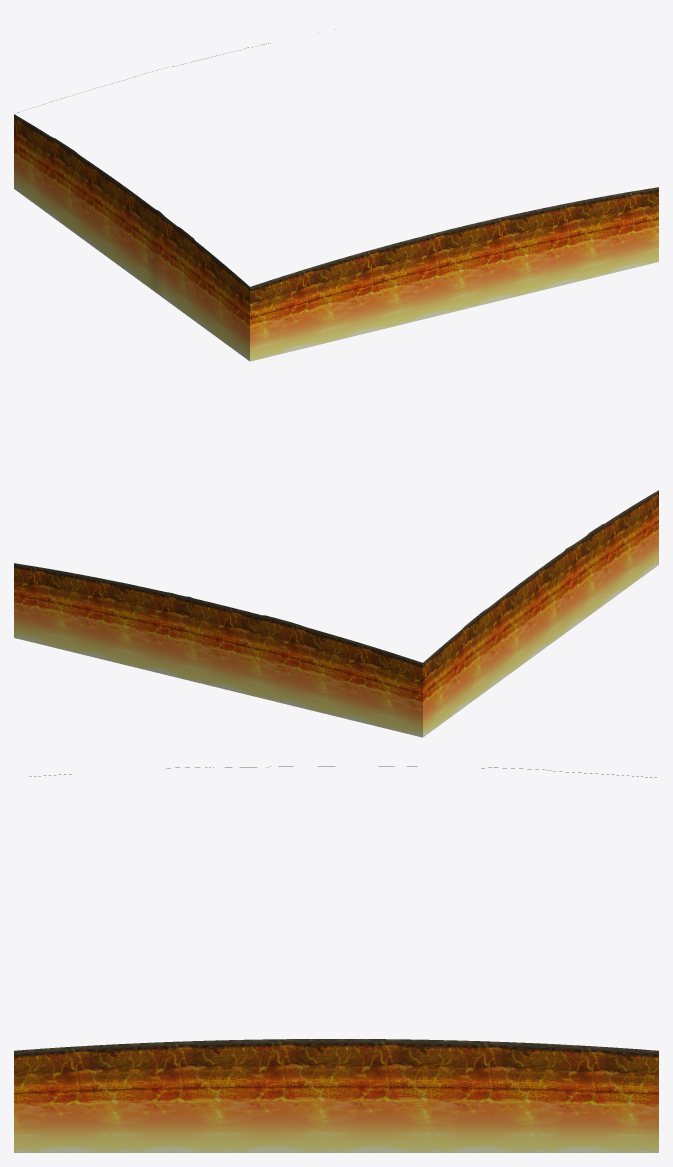
3 views of the same model, one above another, from view 1: azimuth 30°, elevation 25°; view 2: azimuth 150°, elevation 25°; view 3: azimuth 270°, elevation 25° (orthographic). The views are drawn at different scales.
Visible parts, largest first — view 1: Joint_0_Object_1; view 2: Joint_0_Object_1; view 3: Joint_0_Object_1.
Boxes of the visible parts, bbox=[...] form: Joint_0_Object_1: bbox=[14, 114, 658, 361]; Joint_0_Object_1: bbox=[14, 490, 658, 737]; Joint_0_Object_1: bbox=[14, 1039, 658, 1152].
Bounding box in the file's own units: 10000 × 1967 × 10000.
Materials: 2 (2 with a texture image).
